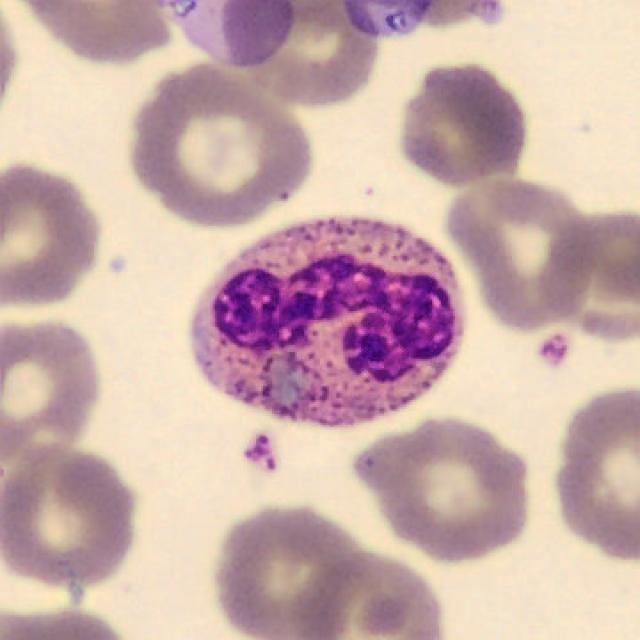Neutrofilo segmentado: (190, 217, 468, 428)
